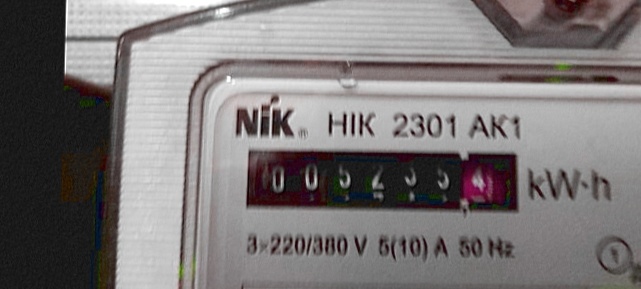0: (303, 159, 324, 192), (271, 162, 290, 193)
2: (369, 157, 391, 192)
3: (401, 156, 426, 190)
4: (470, 158, 493, 194)
5: (435, 156, 458, 193), (337, 157, 357, 191)
screen: (231, 132, 535, 227)
